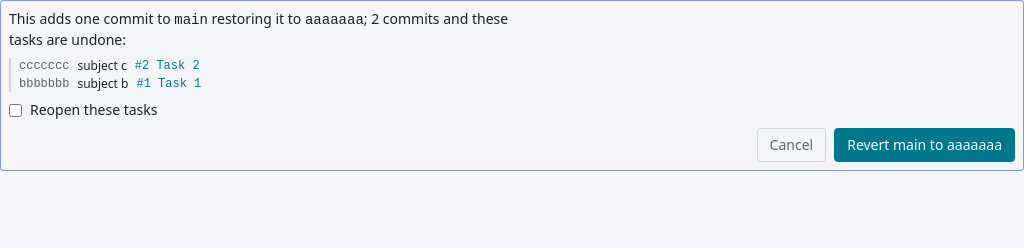
Test: RevertConfirm › reads a moved branch as advice to reload, not as a failure
Click the button "Revert main to aaaaaaa". click: (925, 145)
box: 834,128 -> 1015,162
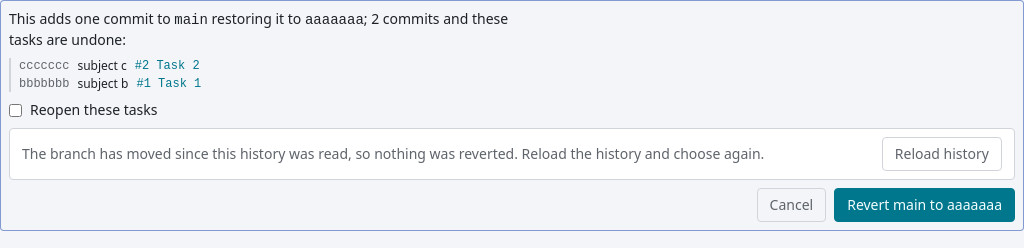
Expected: the button "Reload history" is shown, 882,137 -> 1002,171
Expected: the text "The branch has moved since this history was read" is shown, 22,144 -> 764,163
